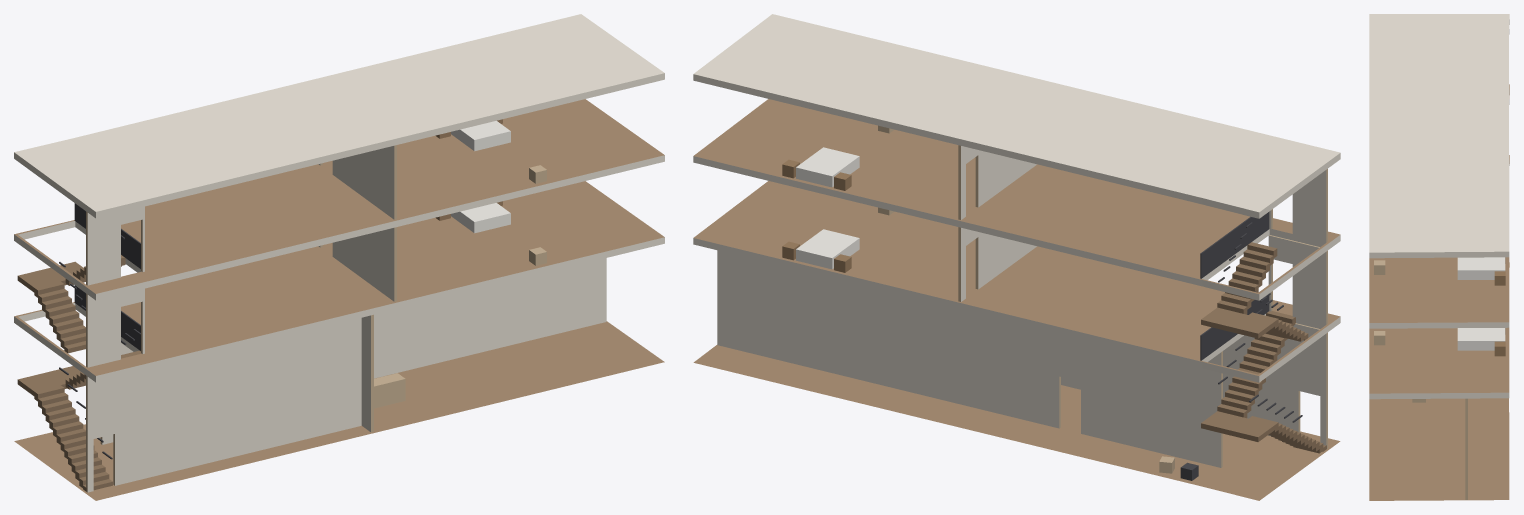
Rendered from interior.glb.
3 views of the same model, side by side, from view 1: azimuth 30°, elevation 25°; view 2: azimuth 150°, elevation 25°; view 3: azimuth 270°, elevation 25° (orthographic). The views are drawn at different scales.
Parts seen in each view (by area): view 1: slabs, partitions, stair, coarse-s2, coarse-s1, coarse-s0; view 2: slabs, partitions, stair, coarse-s1, coarse-s2; view 3: slabs, coarse-s2, coarse-s1, partitions.
Boxes of the visible parts, x1=… form: slabs: x1=14, y1=14, x2=664, y2=500; partitions: x1=86, y1=145, x2=606, y2=492; stair: x1=17, y1=203, x2=141, y2=491; coarse-s2: x1=435, y1=119, x2=546, y2=183; coarse-s1: x1=435, y1=201, x2=546, y2=265; coarse-s0: x1=374, y1=373, x2=405, y2=408; slabs: x1=693, y1=14, x2=1340, y2=500; partitions: x1=717, y1=145, x2=1327, y2=467; stair: x1=1200, y1=212, x2=1326, y2=453; coarse-s1: x1=782, y1=207, x2=894, y2=272; coarse-s2: x1=782, y1=125, x2=893, y2=190; slabs: x1=1369, y1=14, x2=1509, y2=500; coarse-s2: x1=1374, y1=257, x2=1505, y2=285; coarse-s1: x1=1374, y1=328, x2=1505, y2=356; partitions: x1=1465, y1=398, x2=1467, y2=499.
Bounding box in the file's own units: 23.77 × 11.55 × 5.91.
